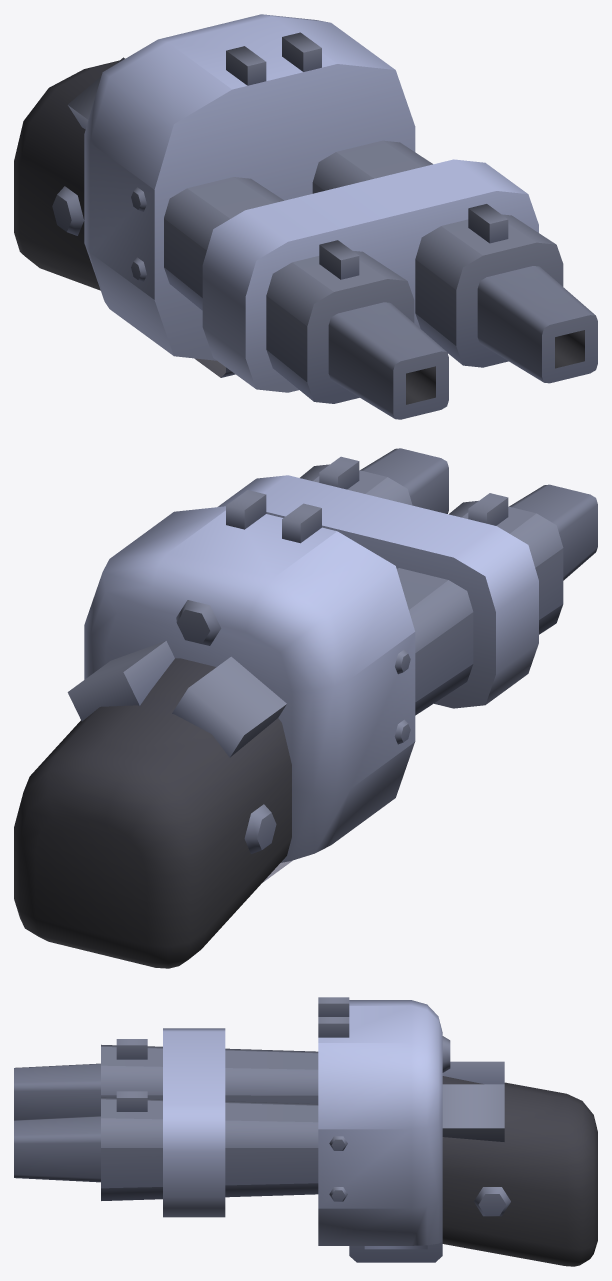
File: BlasterRepeater.fbx
3 renders of one model, top to bottom at view 1: azimuth 30°, elevation 25°; view 2: azimuth 150°, elevation 25°; view 3: azimuth 270°, elevation 25°, orthographic. The views are drawn at different scales.
Parts seen in each view (by area): view 1: blaster-repeater, Group; view 2: blaster-repeater, Group; view 3: blaster-repeater, Group.
Boxes of the visible parts, bbox=[...] form: blaster-repeater: bbox=[14, 14, 597, 419]; Group: bbox=[202, 159, 538, 392]; blaster-repeater: bbox=[14, 448, 597, 968]; Group: bbox=[218, 475, 538, 708]; blaster-repeater: bbox=[14, 997, 597, 1266]; Group: bbox=[163, 1028, 225, 1217].
Bounding box in the file's own units: 0.2094 × 0.2261 × 0.5.
Materials: 1 (1 with a texture image).
